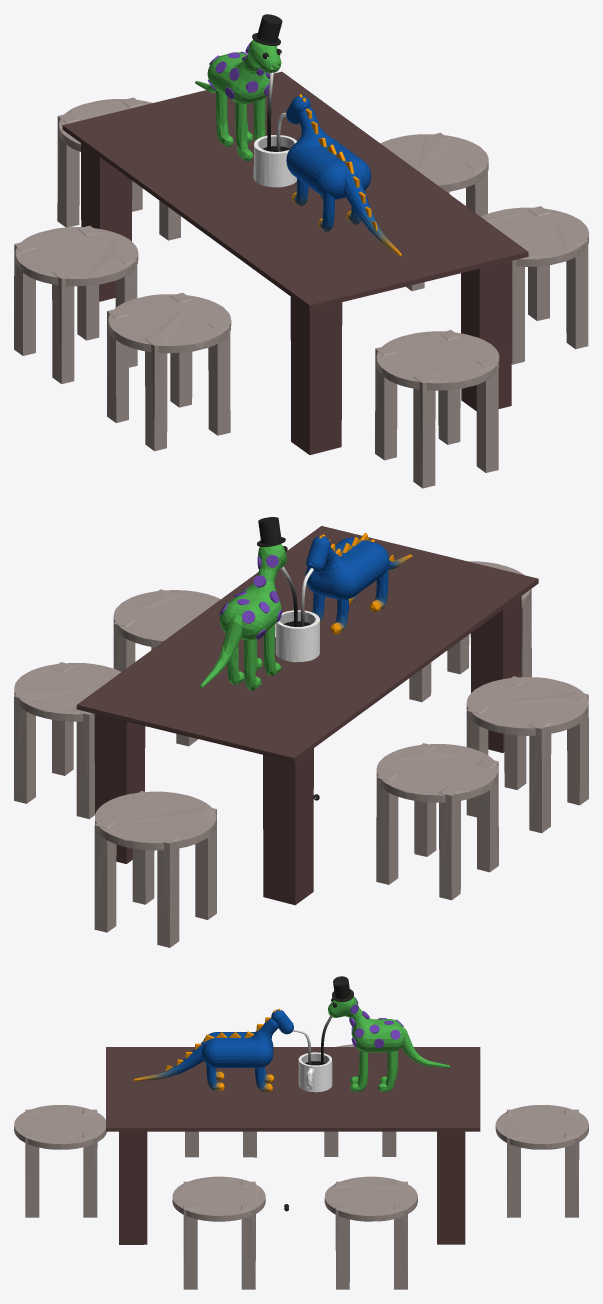
Rendered from tischMitStuehlen.glb.
The picture shows the model from 3 angles, top to bottom: view 1: azimuth 30°, elevation 25°; view 2: azimuth 150°, elevation 25°; view 3: azimuth 270°, elevation 25°; orthographic projection. The views are drawn at different scales.
Parts seen in each view (by area): view 1: 23_02_09_23_24_00_206_21, 23_02_09_23_24_00_206_10, 23_02_09_23_24_00_206_5, 23_02_09_23_24_00_206_6, 23_02_09_23_24_00_206_9, 23_02_09_23_24_00_206_8, 23_02_09_23_24_00_206_7, 23_02_09_23_24_00_206_3, 23_02_09_23_24_00_206_15, 23_02_09_23_24_00_206_12, 23_02_09_23_24_00_206_23, 23_02_09_23_24_00_206_18 (+4 smaller); view 2: 23_02_09_23_24_00_206_21, 23_02_09_23_24_00_206_7, 23_02_09_23_24_00_206_6, 23_02_09_23_24_00_206_5, 23_02_09_23_24_00_206_8, 23_02_09_23_24_00_206_9, 23_02_09_23_24_00_206_3, 23_02_09_23_24_00_206_15, 23_02_09_23_24_00_206_10, 23_02_09_23_24_00_206_23, 23_02_09_23_24_00_206_12, 23_02_09_23_24_00_206_17 (+4 smaller); view 3: 23_02_09_23_24_00_206_21, 23_02_09_23_24_00_206_9, 23_02_09_23_24_00_206_10, 23_02_09_23_24_00_206_8, 23_02_09_23_24_00_206_7, 23_02_09_23_24_00_206_3, 23_02_09_23_24_00_206_15, 23_02_09_23_24_00_206_23, 23_02_09_23_24_00_206_12, 23_02_09_23_24_00_206_6, 23_02_09_23_24_00_206_5, 23_02_09_23_24_00_206_17 (+4 smaller).
Part boxes in pixels (left/top/right/bottom): 23_02_09_23_24_00_206_21: left=62, top=71, right=528, bottom=454; 23_02_09_23_24_00_206_10: left=375, top=330, right=499, bottom=488; 23_02_09_23_24_00_206_5: left=107, top=292, right=231, bottom=451; 23_02_09_23_24_00_206_6: left=14, top=225, right=138, bottom=384; 23_02_09_23_24_00_206_9: left=481, top=206, right=588, bottom=364; 23_02_09_23_24_00_206_8: left=380, top=132, right=488, bottom=291; 23_02_09_23_24_00_206_7: left=57, top=97, right=180, bottom=240; 23_02_09_23_24_00_206_3: left=286, top=107, right=371, bottom=199; 23_02_09_23_24_00_206_15: left=207, top=39, right=281, bottom=103; 23_02_09_23_24_00_206_12: left=216, top=90, right=265, bottom=161; 23_02_09_23_24_00_206_23: left=253, top=135, right=296, bottom=187; 23_02_09_23_24_00_206_18: left=343, top=167, right=401, bottom=255; 23_02_09_23_24_00_206_21: left=76, top=526, right=538, bottom=905; 23_02_09_23_24_00_206_7: left=94, top=791, right=216, bottom=947; 23_02_09_23_24_00_206_6: left=376, top=743, right=498, bottom=900; 23_02_09_23_24_00_206_5: left=466, top=676, right=588, bottom=833; 23_02_09_23_24_00_206_8: left=14, top=662, right=121, bottom=819; 23_02_09_23_24_00_206_9: left=113, top=589, right=220, bottom=746; 23_02_09_23_24_00_206_3: left=305, top=537, right=389, bottom=600; 23_02_09_23_24_00_206_15: left=219, top=544, right=286, bottom=639; 23_02_09_23_24_00_206_10: left=409, top=561, right=531, bottom=702; 23_02_09_23_24_00_206_23: left=276, top=610, right=319, bottom=662; 23_02_09_23_24_00_206_12: left=227, top=625, right=281, bottom=690; 23_02_09_23_24_00_206_17: left=312, top=554, right=388, bottom=634; 23_02_09_23_24_00_206_21: left=106, top=1047, right=480, bottom=1244; 23_02_09_23_24_00_206_9: left=172, top=1176, right=265, bottom=1289; 23_02_09_23_24_00_206_10: left=14, top=1105, right=106, bottom=1217; 23_02_09_23_24_00_206_8: left=324, top=1176, right=417, bottom=1289; 23_02_09_23_24_00_206_7: left=495, top=1105, right=588, bottom=1217; 23_02_09_23_24_00_206_3: left=202, top=1018, right=278, bottom=1067; 23_02_09_23_24_00_206_15: left=328, top=996, right=405, bottom=1052; 23_02_09_23_24_00_206_23: left=298, top=1052, right=332, bottom=1092; 23_02_09_23_24_00_206_12: left=350, top=1050, right=397, bottom=1091; 23_02_09_23_24_00_206_6: left=324, top=1044, right=396, bottom=1156; 23_02_09_23_24_00_206_5: left=185, top=1131, right=256, bottom=1157; 23_02_09_23_24_00_206_17: left=206, top=1064, right=274, bottom=1091.
Bounding box in the file's own units: 55.68 × 35.33 × 78.72.
23 materials, 23 textured.
